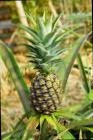Pineapple: (21, 14, 68, 115)
